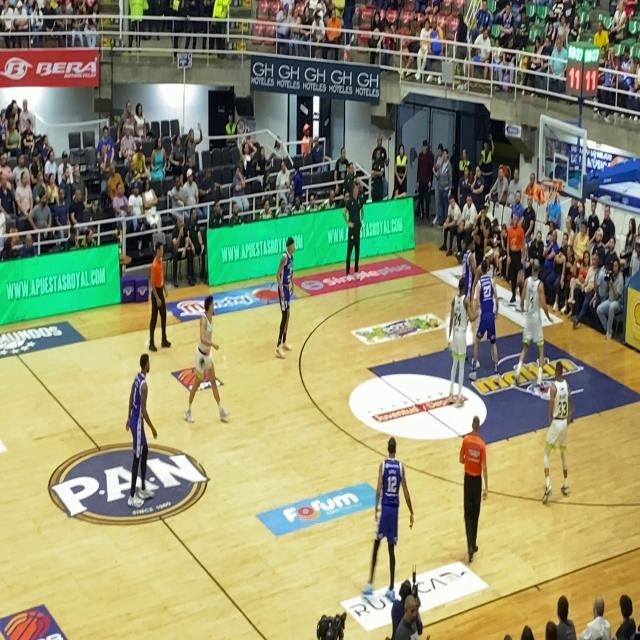referee: (456, 398, 491, 584), (138, 231, 176, 358), (504, 204, 530, 310)
team1: (186, 273, 230, 444), (538, 356, 580, 505), (514, 248, 548, 416), (443, 262, 471, 408)
team2: (368, 414, 412, 616), (122, 347, 158, 516), (272, 218, 298, 365), (474, 256, 502, 381), (452, 227, 480, 307)
ubasket: (540, 177, 561, 208)
